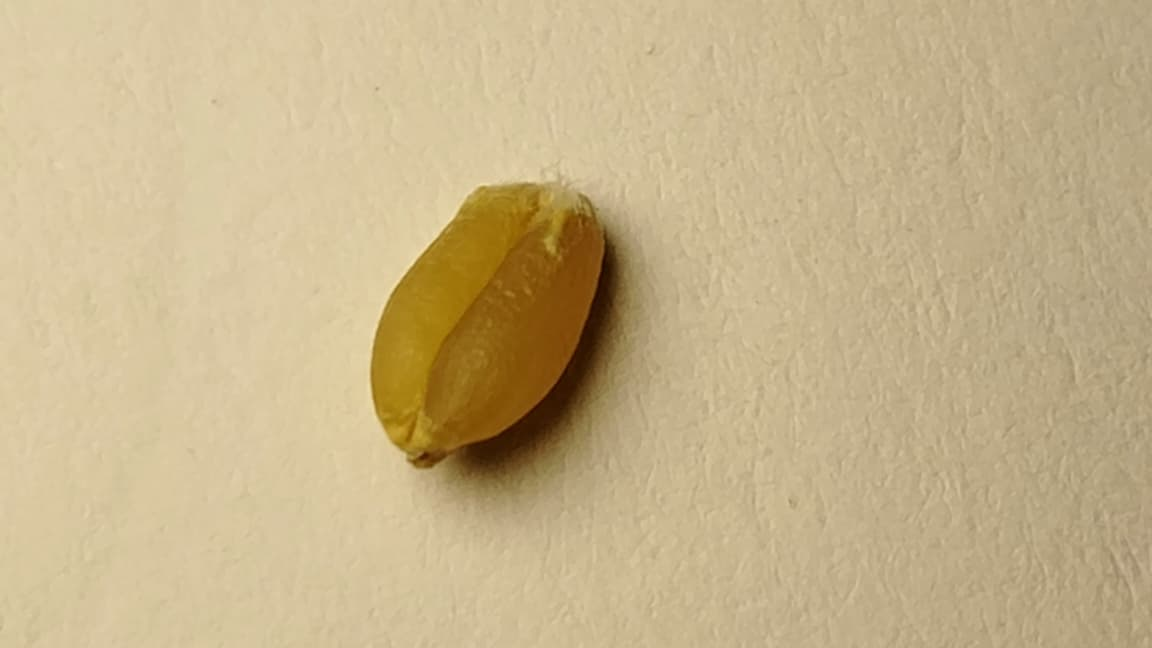healthy: (371, 178, 603, 461)
